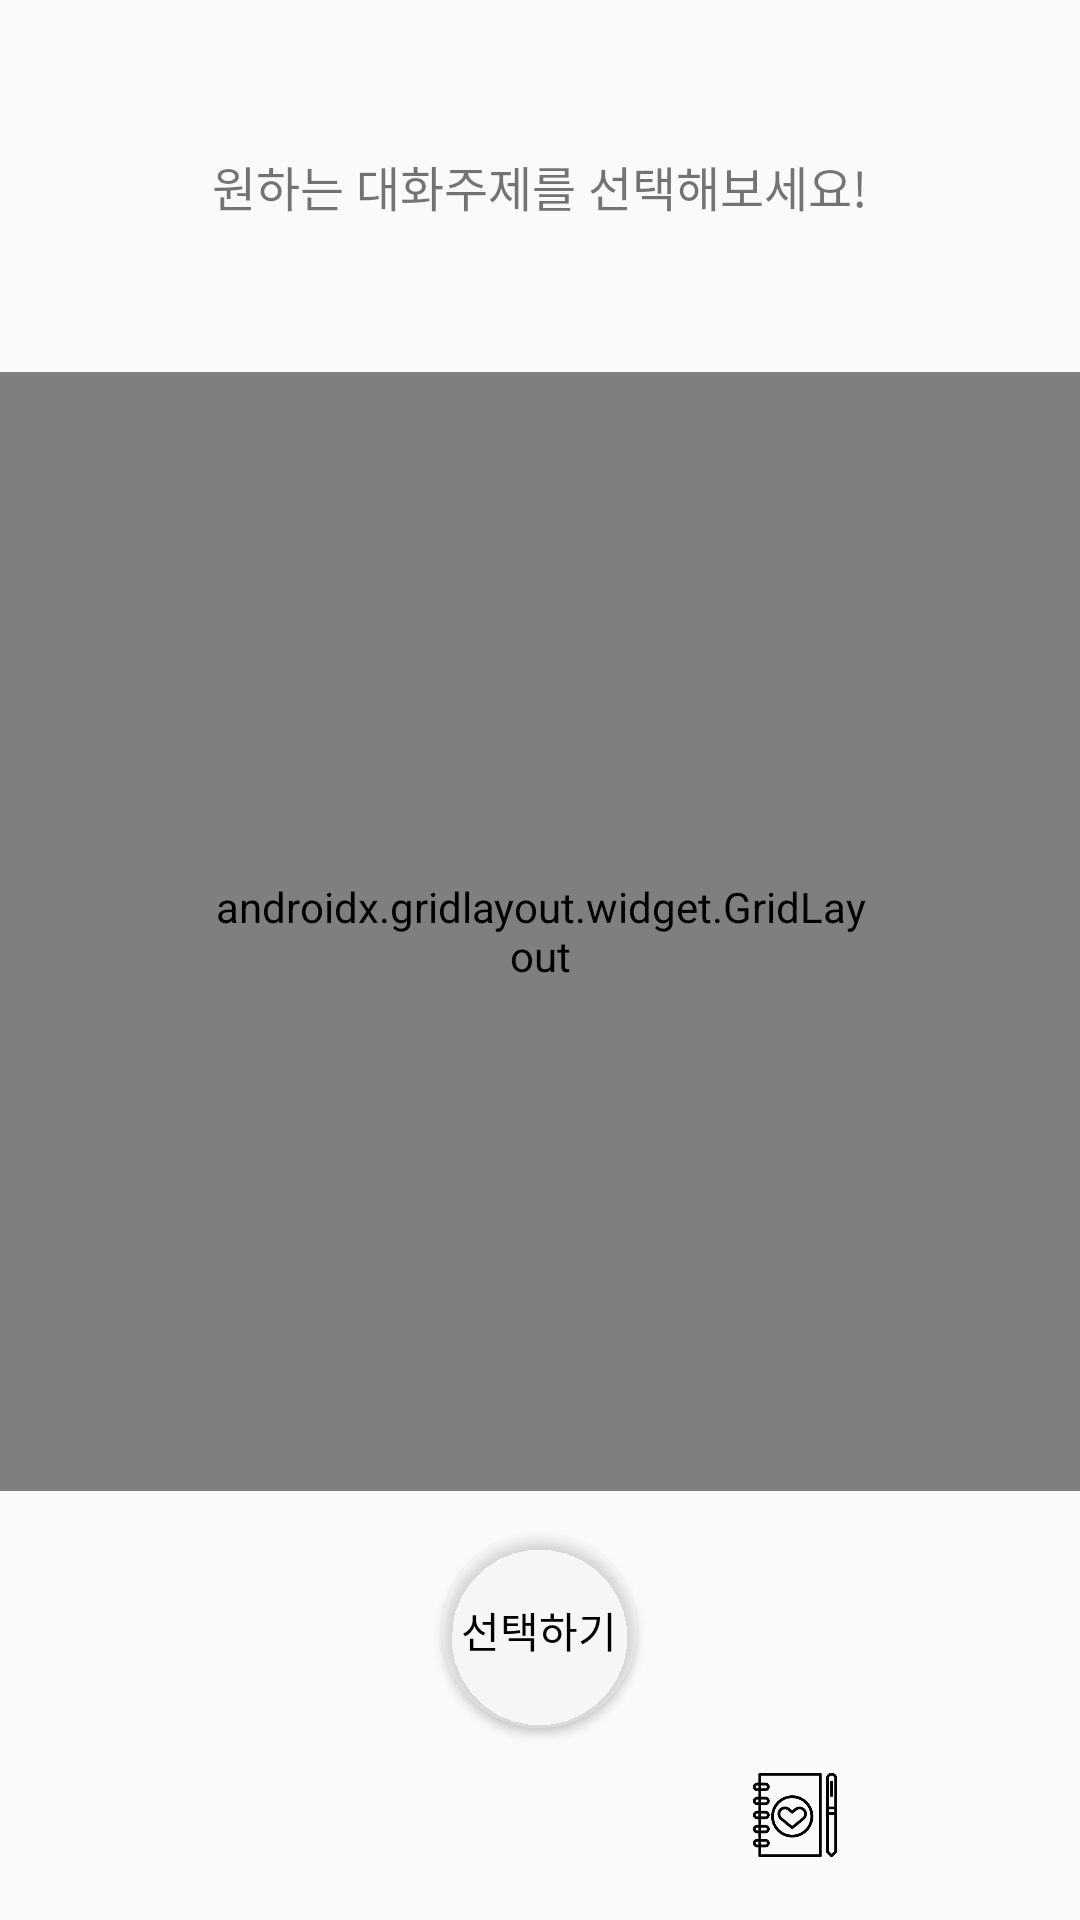

Icon click points for this 1080*1920 phone screenshot, format point (x, y):
diary: point (795, 1815)
